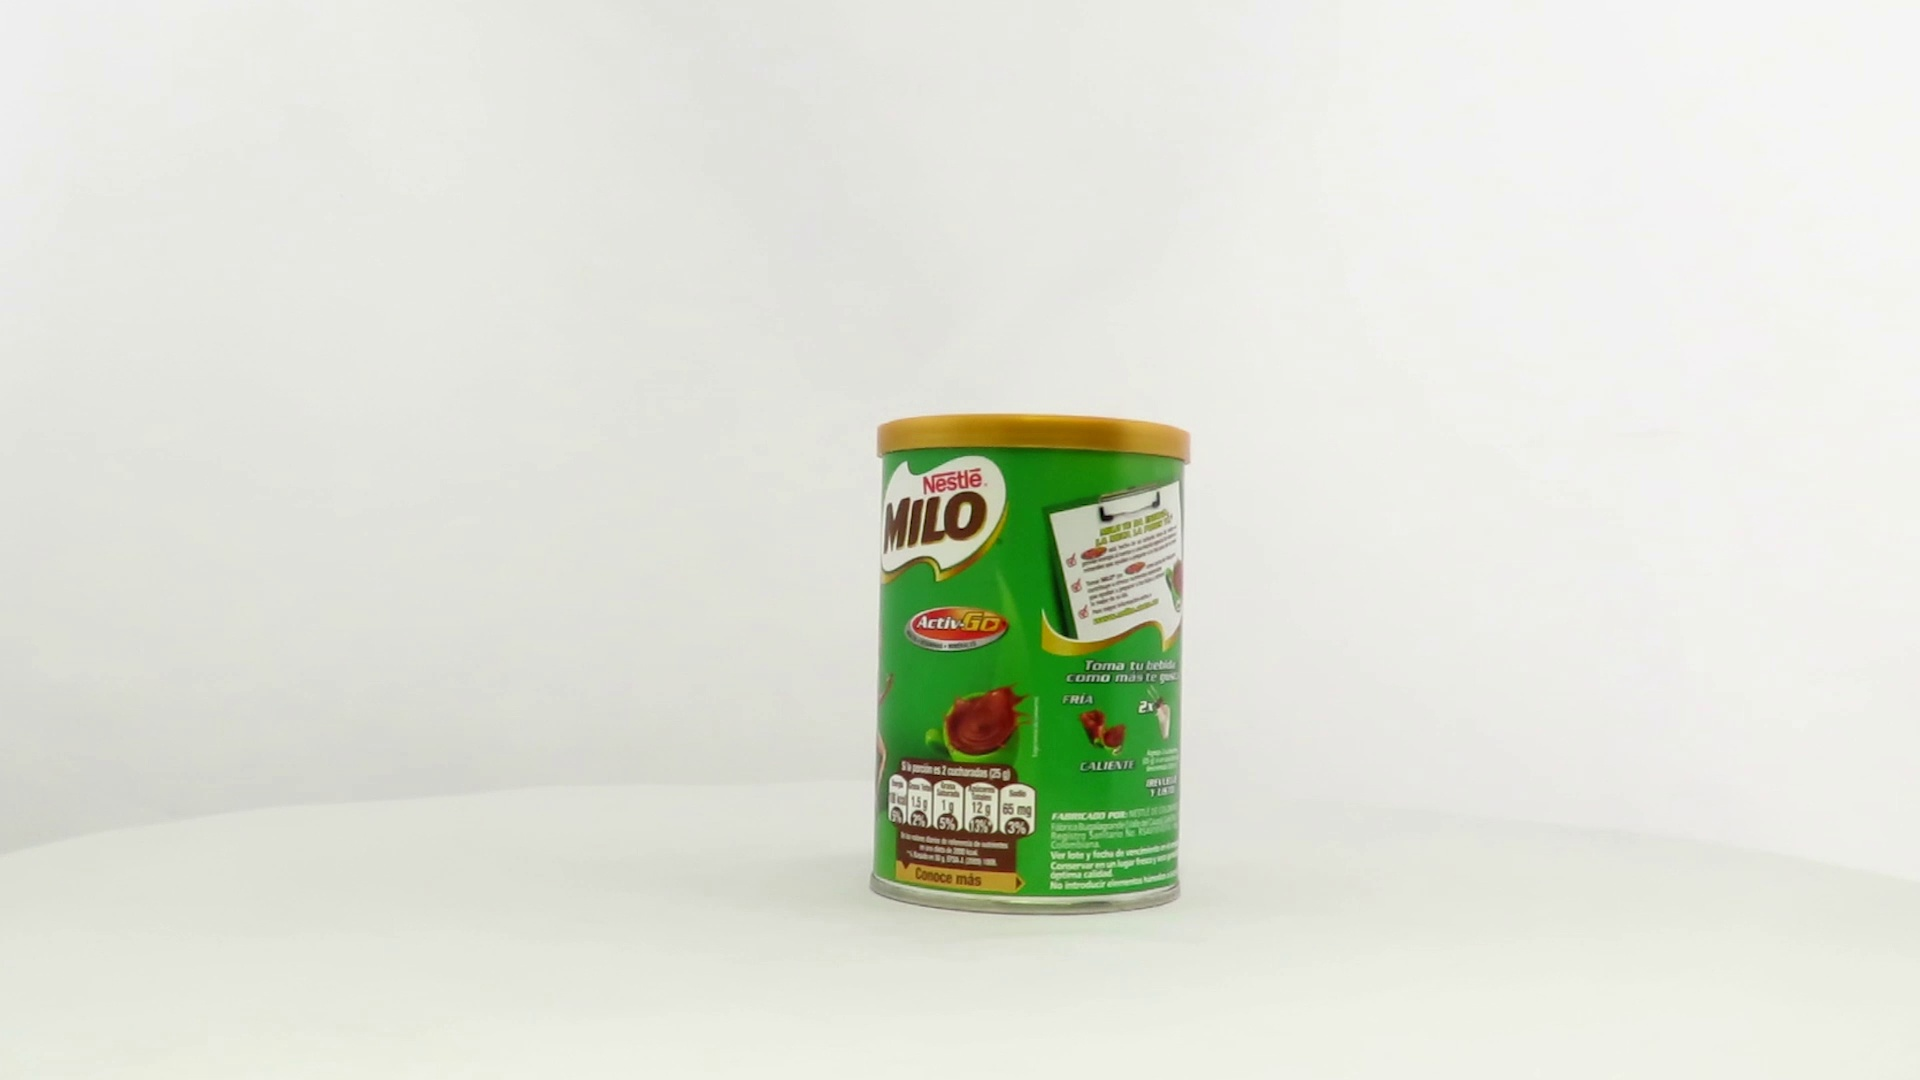COL0170203LAT20000: (864, 407, 1197, 922)
